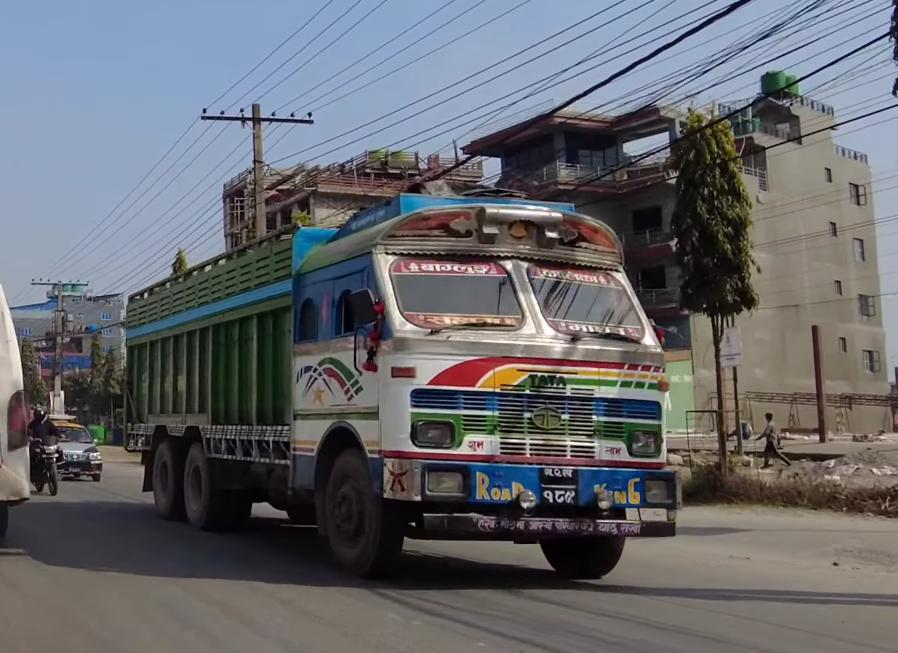bike: (25, 432, 62, 498)
taxi: (51, 416, 109, 482)
truck: (121, 189, 681, 580)
